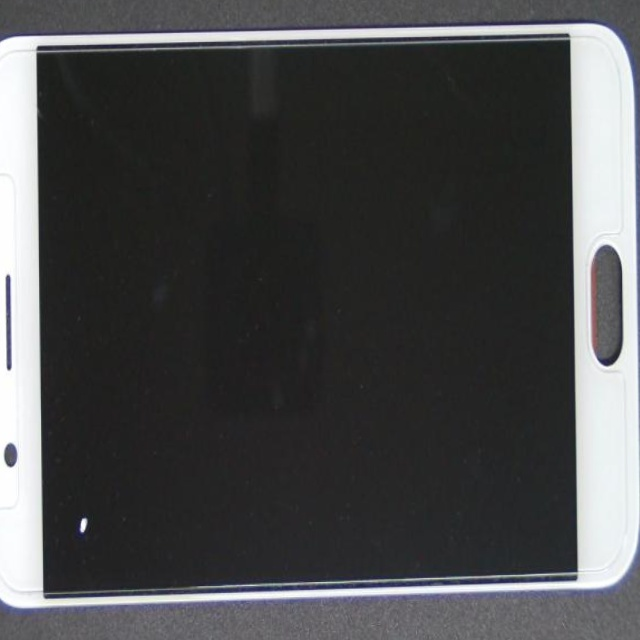stain: (33, 261, 176, 640)
